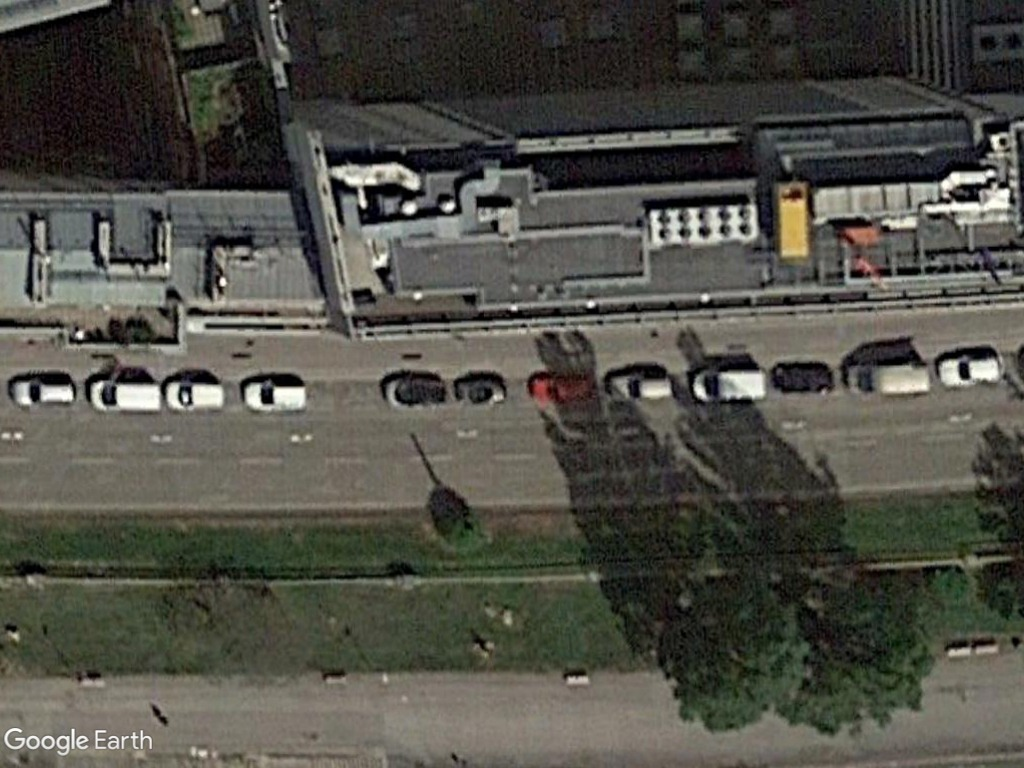car: (935, 353, 1009, 390), (524, 372, 601, 407), (603, 372, 679, 407), (240, 378, 312, 413), (7, 378, 84, 410), (163, 378, 227, 412)
van: (843, 355, 933, 399), (84, 378, 170, 414), (689, 366, 769, 404)
